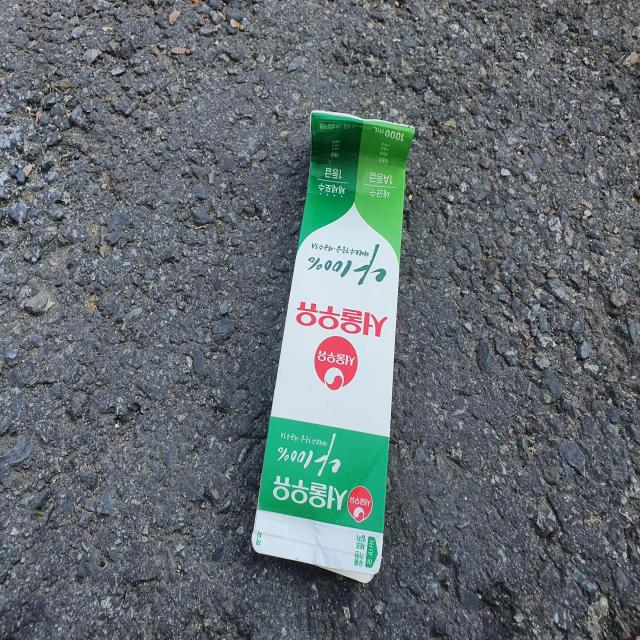paperpack: (252, 110, 415, 582)
